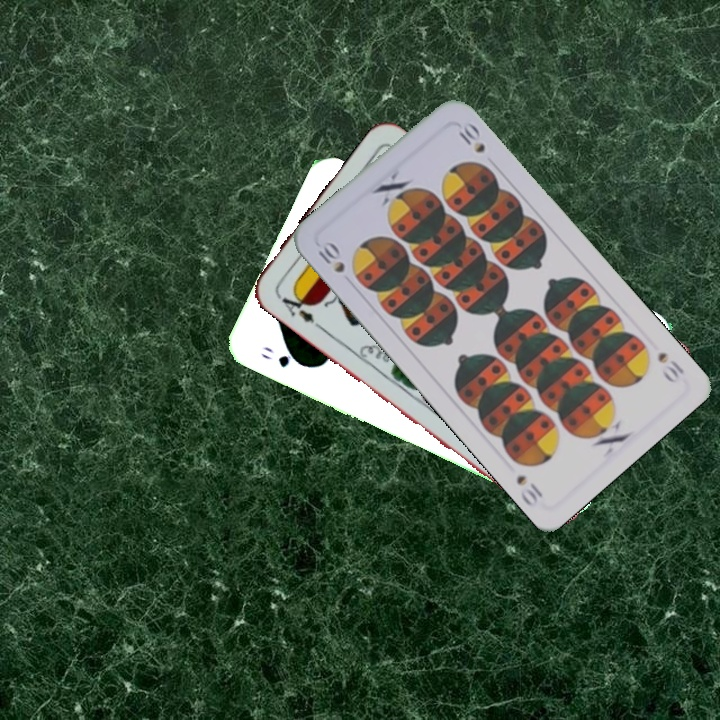EA: (273, 287, 324, 332)
GO: (257, 342, 308, 370)
S10: (312, 236, 348, 276), (653, 348, 687, 386)
